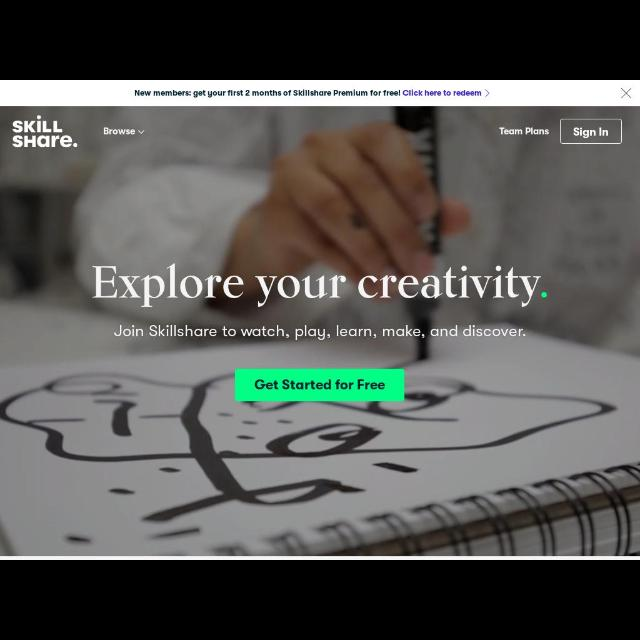backgroundimage: (1, 107, 639, 557)
icon: (622, 88, 632, 99), (484, 89, 490, 97), (138, 130, 144, 134)
image: (12, 114, 78, 148)
spinner: (104, 127, 144, 135)
text: (92, 262, 548, 308), (114, 324, 526, 341), (134, 90, 482, 98), (255, 380, 385, 390), (499, 126, 549, 136), (574, 127, 608, 139), (104, 127, 136, 135)
textbutton: (236, 368, 404, 402), (560, 119, 622, 143)
toolbar: (1, 108, 639, 156)
